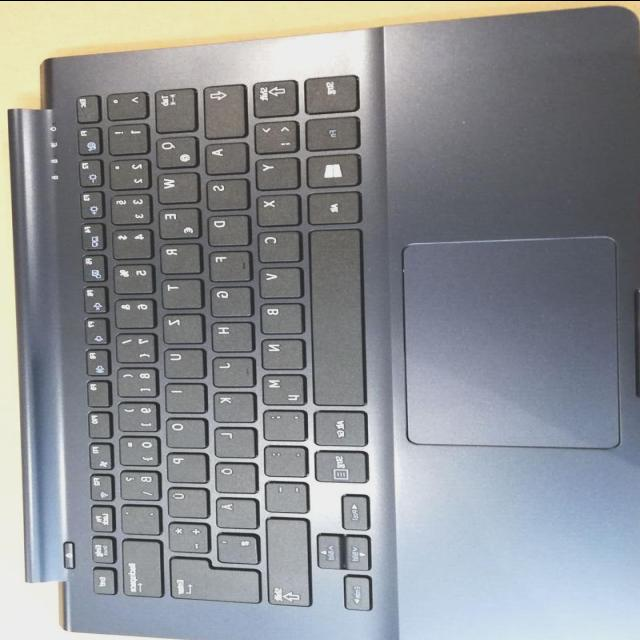0: (114, 432, 156, 463)
1: (104, 120, 146, 152)
2: (105, 155, 147, 187)
3: (107, 190, 149, 222)
4: (108, 226, 150, 257)
5: (109, 259, 151, 291)
6: (110, 295, 152, 326)
7: (112, 329, 154, 360)
8: (112, 364, 154, 394)
9: (113, 398, 155, 429)
a: (201, 139, 246, 171)
accent: (116, 502, 158, 532)
ae: (211, 494, 255, 526)
alt-left: (304, 188, 359, 222)
altgr-right: (310, 407, 364, 444)
b: (256, 299, 302, 332)
c: (254, 227, 300, 260)
caret: (102, 89, 145, 117)
comma: (259, 406, 304, 438)
d: (203, 211, 248, 243)
del: (118, 537, 160, 596)
e: (154, 204, 198, 237)
enter: (165, 554, 258, 601)
f: (205, 247, 249, 279)
g: (206, 282, 251, 314)
h: (207, 318, 251, 350)
hash: (212, 530, 255, 562)
i: (160, 380, 203, 411)
j: (207, 353, 252, 385)
k: (209, 388, 253, 420)
keyboard: (50, 60, 392, 619)
l: (210, 423, 254, 455)
less: (249, 117, 295, 151)
m: (258, 370, 304, 402)
minus: (261, 477, 305, 511)
n: (257, 335, 303, 367)
o: (161, 414, 204, 446)
oe: (211, 459, 255, 491)
p: (163, 448, 205, 480)
plus: (164, 518, 206, 550)
point: (259, 442, 304, 475)
q: (152, 133, 196, 166)
r: (156, 240, 199, 272)
s: (203, 176, 247, 208)
shift-left: (249, 76, 295, 114)
shift-lock: (198, 81, 244, 136)
shift-right: (262, 514, 308, 604)
space: (306, 226, 363, 404)
ss: (115, 467, 157, 498)
strg-left: (299, 70, 356, 111)
strg-right: (311, 447, 366, 481)
t: (157, 275, 200, 307)
tab: (150, 85, 195, 130)
u: (160, 345, 203, 376)
ue: (164, 484, 207, 516)
v: (254, 264, 300, 296)
w: (153, 169, 197, 201)
x: (252, 191, 298, 223)
y: (252, 154, 298, 188)
z: (159, 310, 202, 342)
